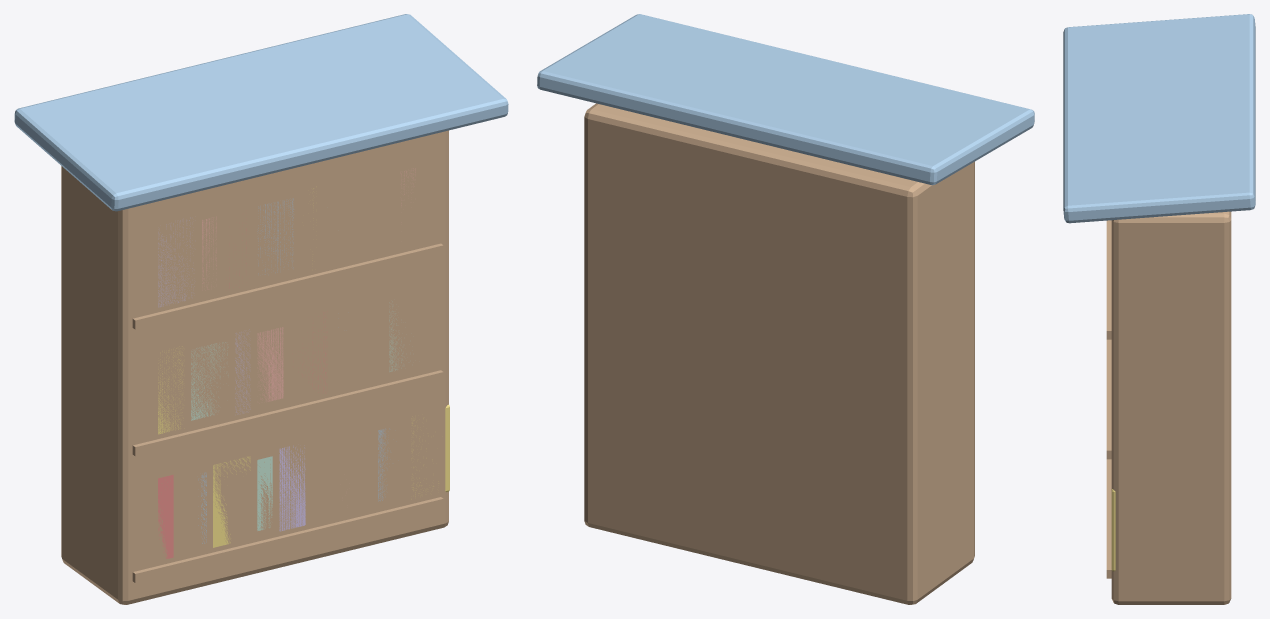
The model's file is bookshelf.glb.
The picture shows the model from 3 angles, left to right: view 1: azimuth 30°, elevation 25°; view 2: azimuth 150°, elevation 25°; view 3: azimuth 270°, elevation 25°; orthographic projection. The views are drawn at different scales.
Parts seen in each view (by area): view 1: bookshelf; view 2: bookshelf; view 3: bookshelf.
Part boxes in pixels (x1,y1,x2,y2): bookshelf: (14, 14, 508, 604); bookshelf: (537, 14, 1034, 604); bookshelf: (1063, 14, 1255, 604).
Size of the model in its own units: 1.8 by 1.97 by 0.8006.
